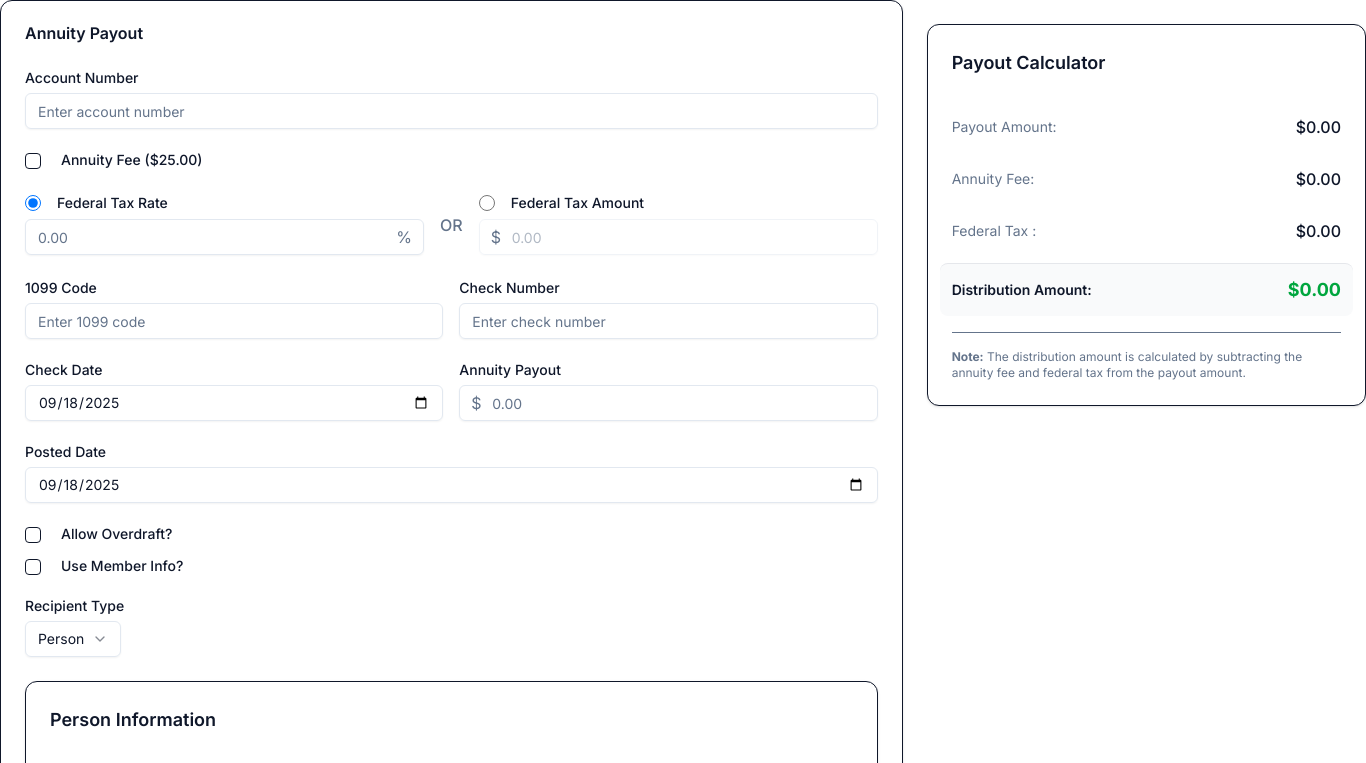
Test: AnnuityPayoutForm - Use Member Info Behavior › re-shows recipient sections when "Use Member Info" is unchecked
Check "Use Member Info" to hide sections
Click the checkbox named "use member info": (33, 567) [25, 559, 41, 575]
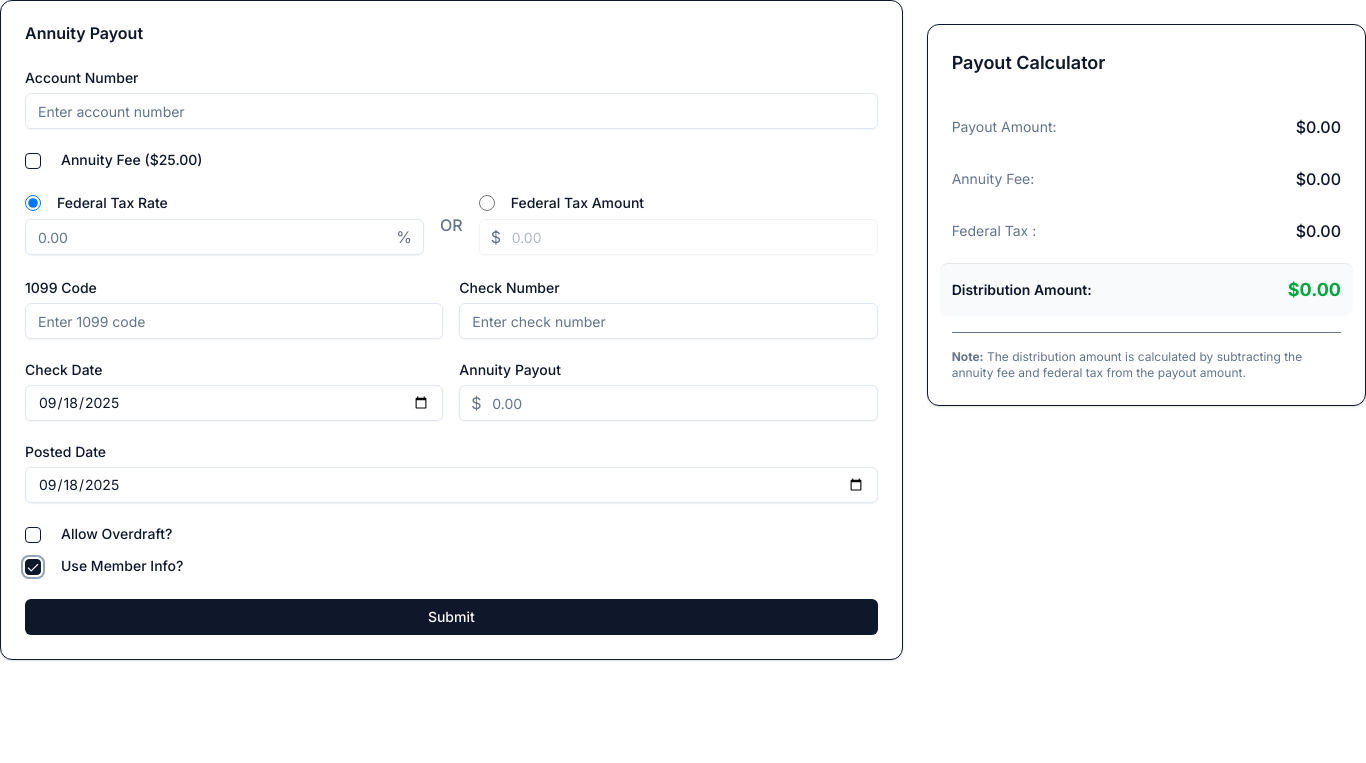
Expected: the text "Recipient Type" is gone
Expected: the text "Person Information" is gone
Uncheck "Use Member Info"
Click the checkbox named "use member info": (33, 567) [25, 559, 41, 575]
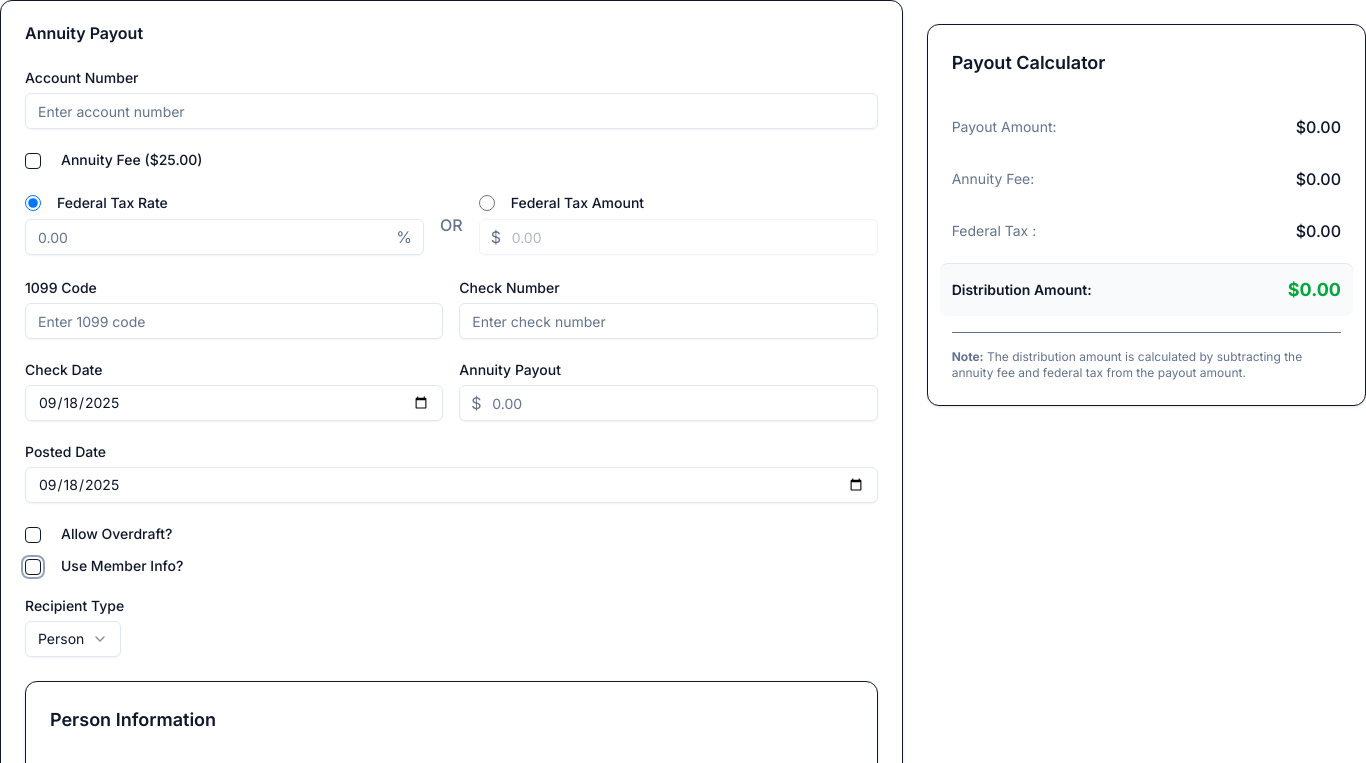
Expected: the text "Recipient Type" is shown, [25, 597, 124, 614]
Expected: the text "Person Information" is shown, [50, 709, 216, 730]
